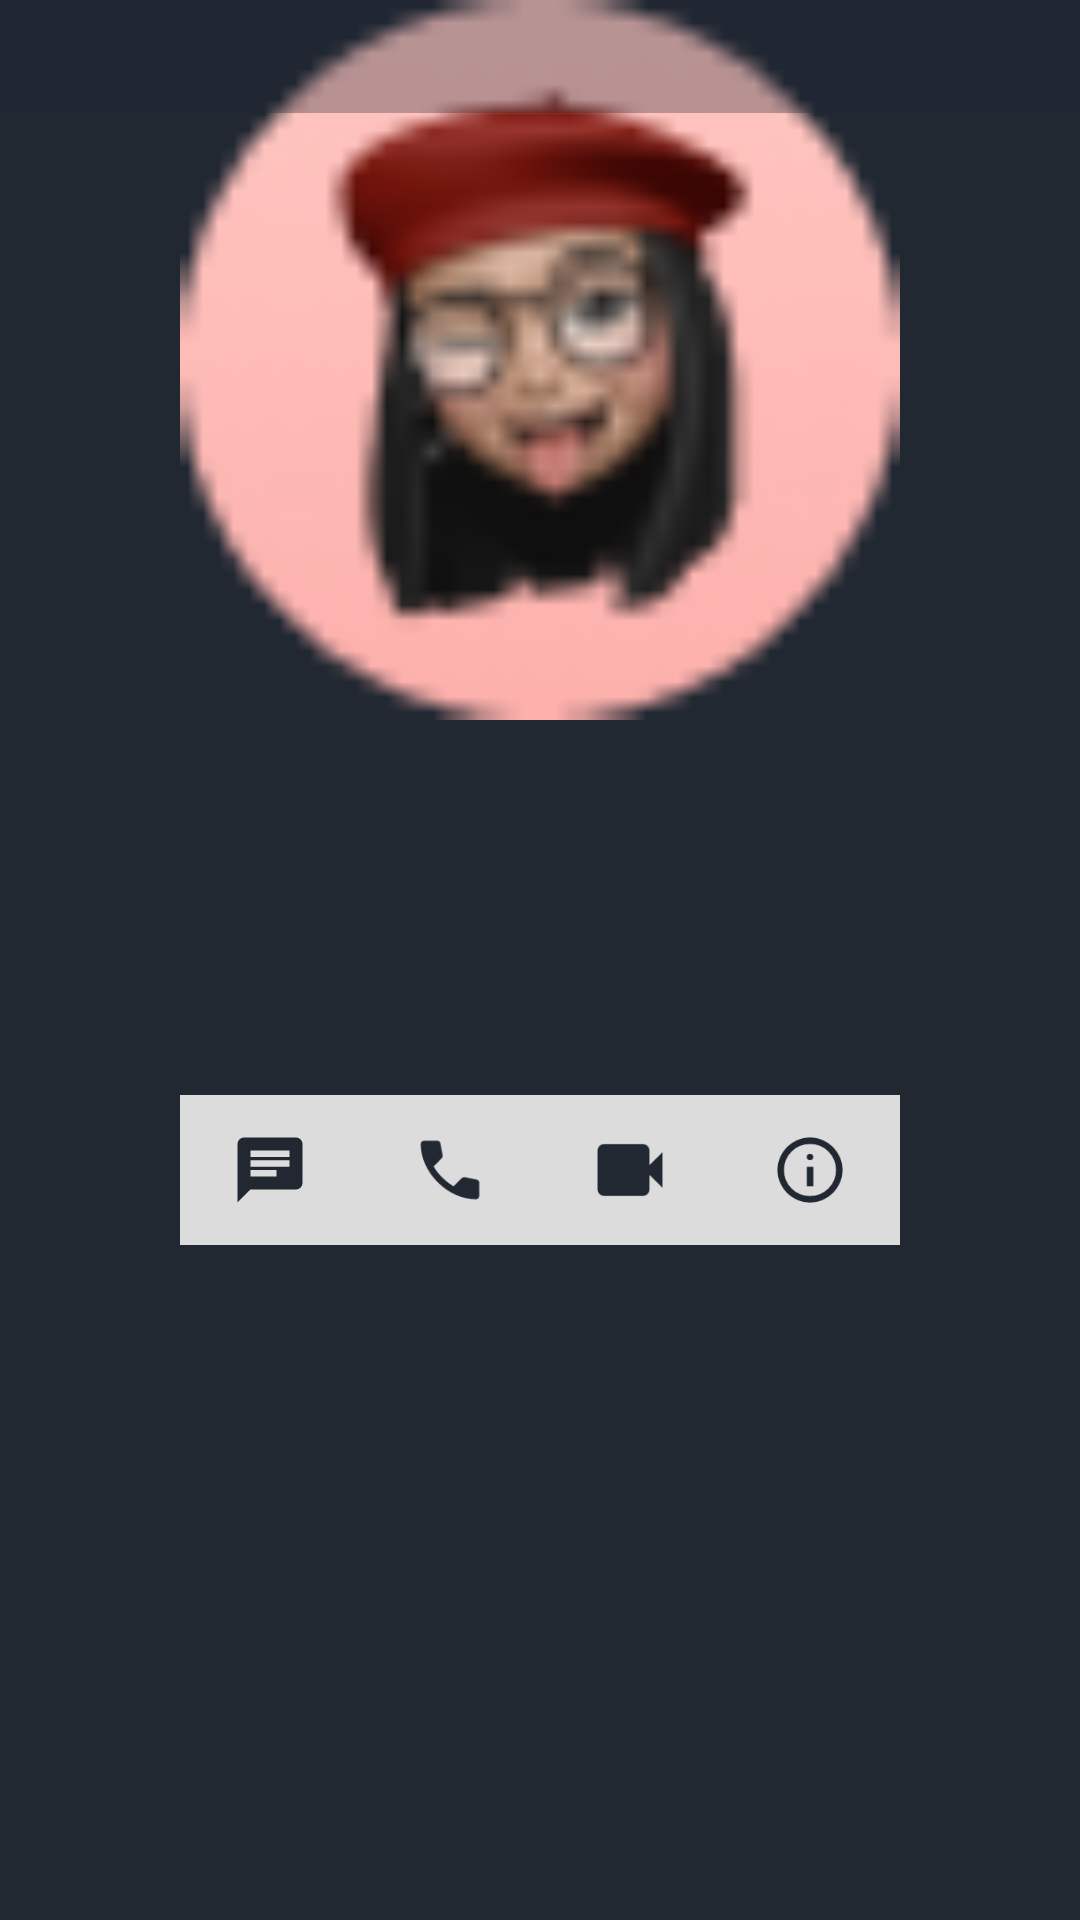

Icon click points for this 1080 x 1920 phone screenshot, format (x=x, y=y):
icinfo: (x=810, y=1170)
videocam: (x=630, y=1170)
